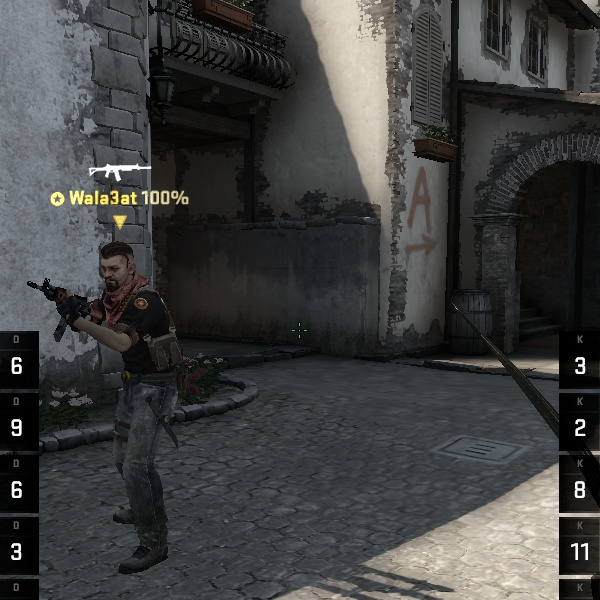t_body: (19, 230, 213, 567)
t_head: (80, 232, 151, 304)
